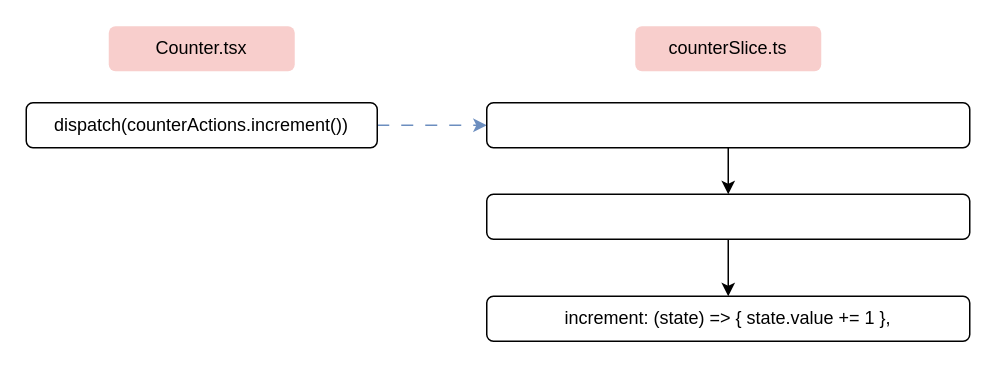
Some shapes in this 996 by 368 pixel diagram are drawn without their labels. Each missing label, with the centre of its shape:
export const counterSlice = createSlice({...}): (x=727, y=216)
export const { actions: counterActions } = counterSlice;: (x=727, y=124)
